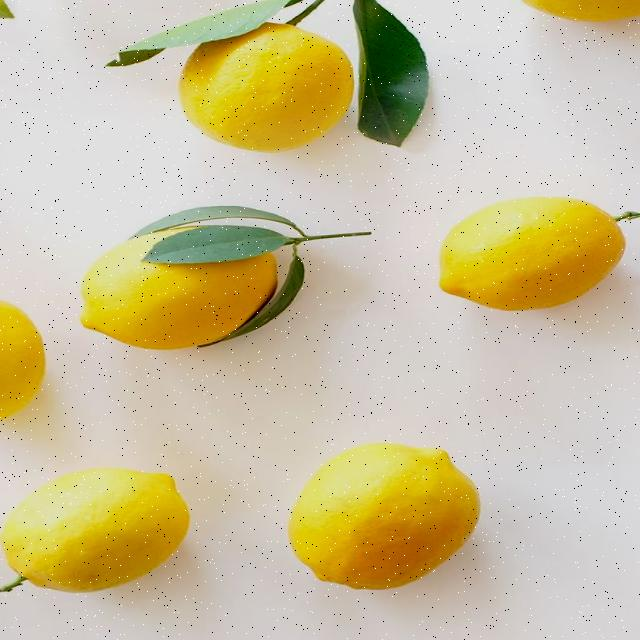Lemon: (288, 444, 480, 590), (81, 228, 277, 350), (1, 470, 188, 593), (179, 22, 354, 152), (440, 197, 626, 310)
